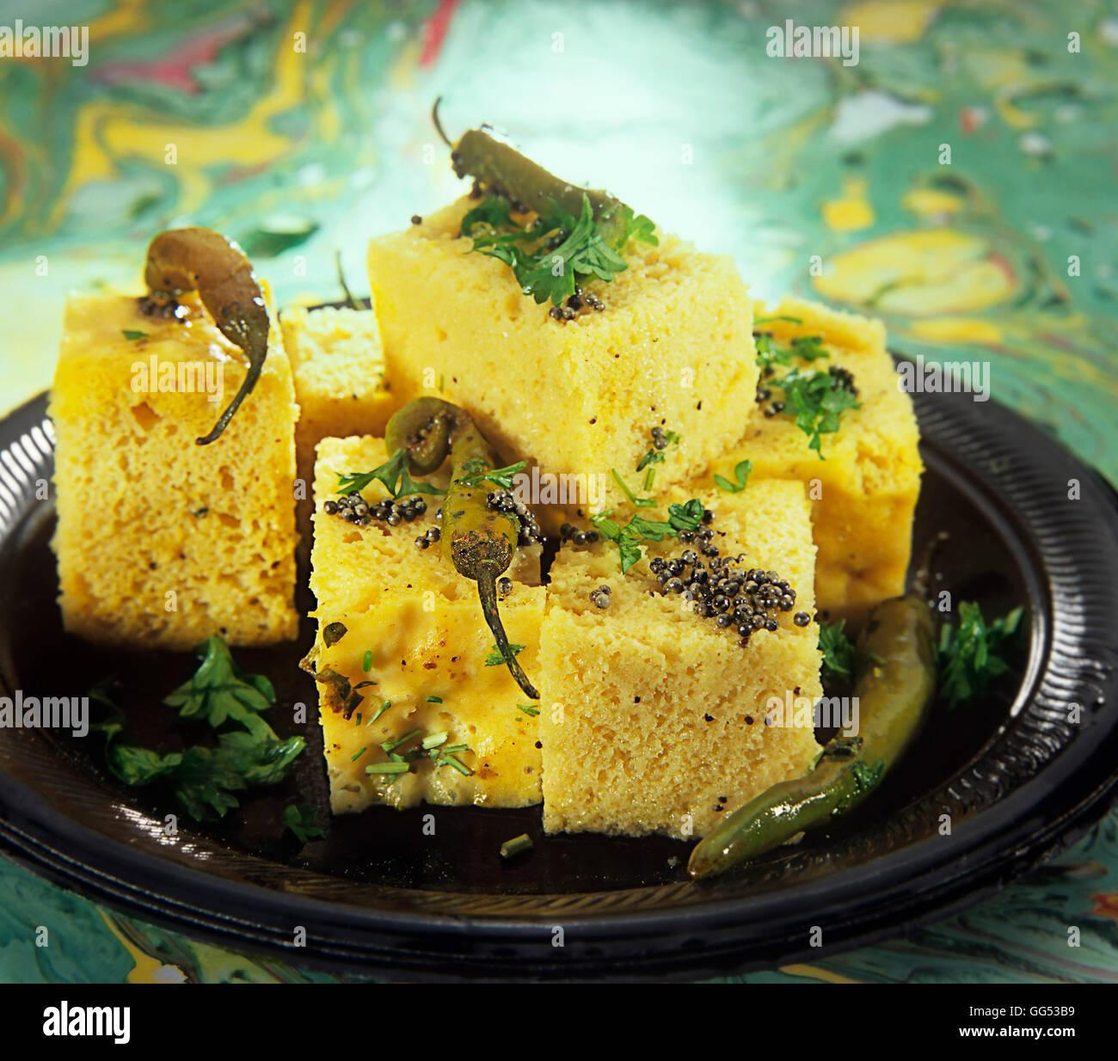dhokla: (49, 150, 914, 802)
